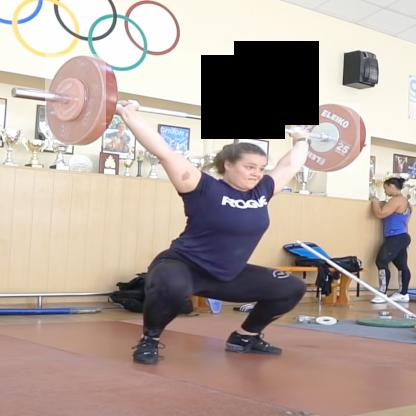barbell: (46, 55, 107, 147), (292, 104, 361, 173)
